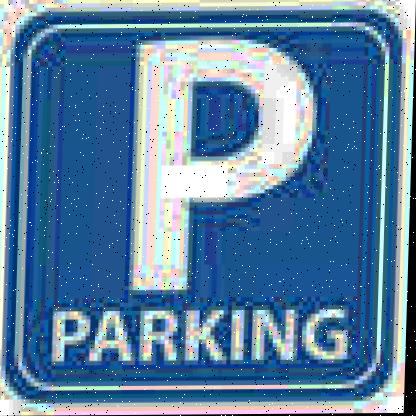Parking: (33, 19, 387, 388)
